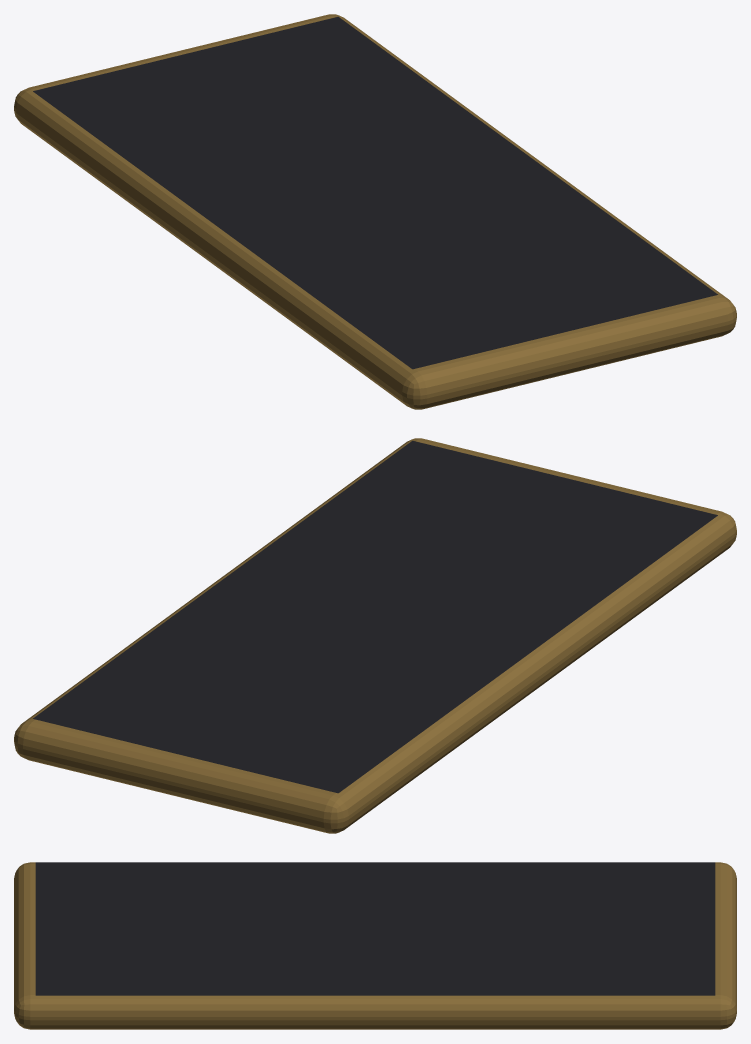
The model's file is Phone_44.glb.
3 views of the same model, one above another, from view 1: azimuth 30°, elevation 25°; view 2: azimuth 150°, elevation 25°; view 3: azimuth 270°, elevation 25° (orthographic). The views are drawn at different scales.
Visible parts, largest first — view 1: Phone_Screen, Phone_Body; view 2: Phone_Screen, Phone_Body; view 3: Phone_Screen, Phone_Body.
Boxes of the visible parts, <box> form: Phone_Screen: <box>33,16,717,369</box>; Phone_Body: <box>14,14,736,409</box>; Phone_Screen: <box>33,440,717,793</box>; Phone_Body: <box>14,438,736,833</box>; Phone_Screen: <box>35,862,715,995</box>; Phone_Body: <box>14,862,736,1029</box>.
Size of the model in its own units: 0.0707 by 0.0076 by 0.1489.
